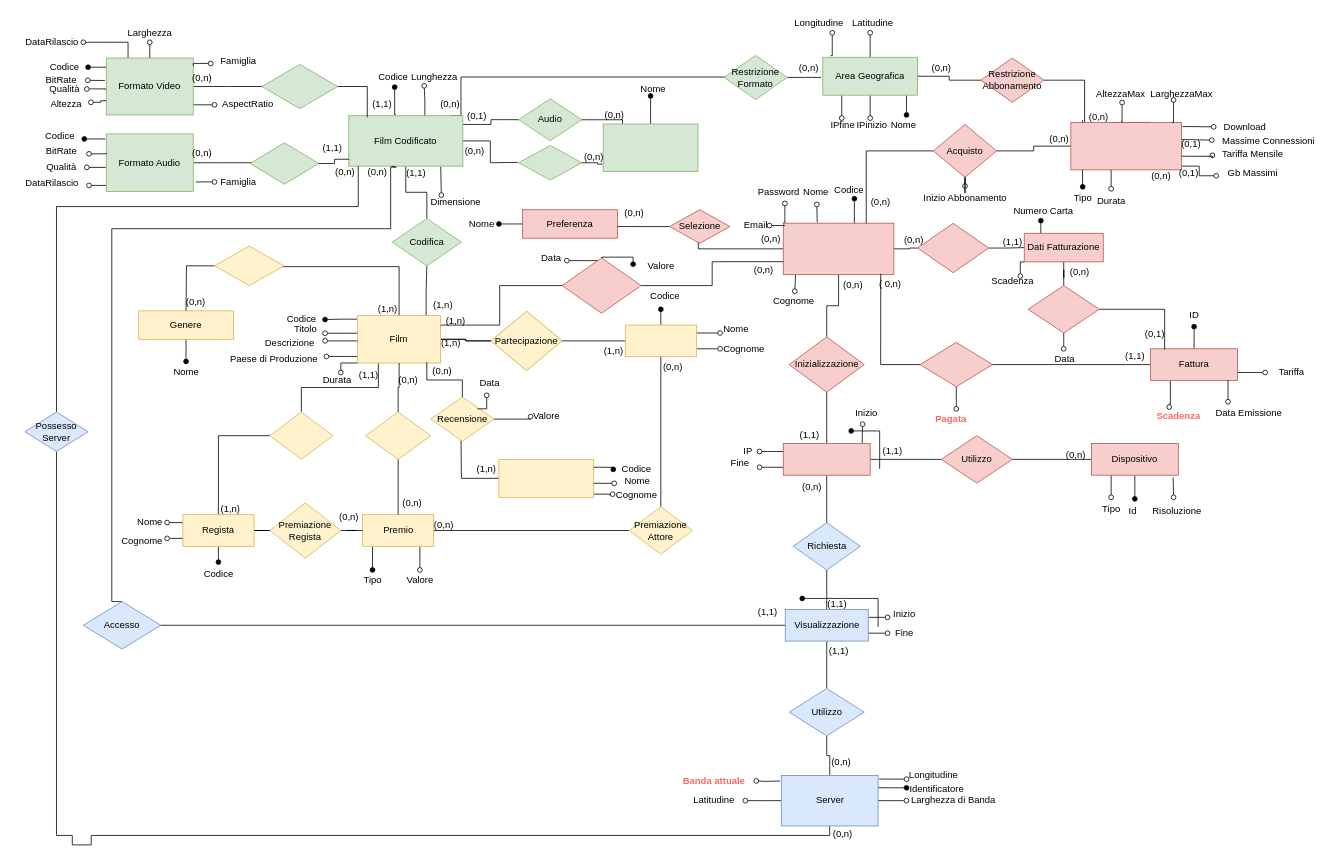
This 1337x860 diagram has some shape labels left out. Each missing label, with the box of its shape:
Abbonamento: (1070, 122, 1181, 170)
Appartenenza: (214, 245, 284, 286)
Attori: (624, 324, 696, 357)
Codifica audio: (249, 142, 319, 184)
Codifica Video: (261, 64, 338, 109)
Connessione: (782, 443, 870, 475)
Critico: (498, 459, 594, 497)
Direzione: (269, 411, 333, 459)
Lingua: (602, 123, 698, 171)
Pagamento: (1027, 285, 1099, 333)
Possesso: (917, 223, 989, 273)
Recensione Utente: (561, 257, 641, 313)
Sottotitolo: (518, 145, 582, 180)
Utente: (782, 222, 894, 275)
UtenteFattura: (919, 342, 993, 387)
Vinto: (365, 411, 431, 459)
